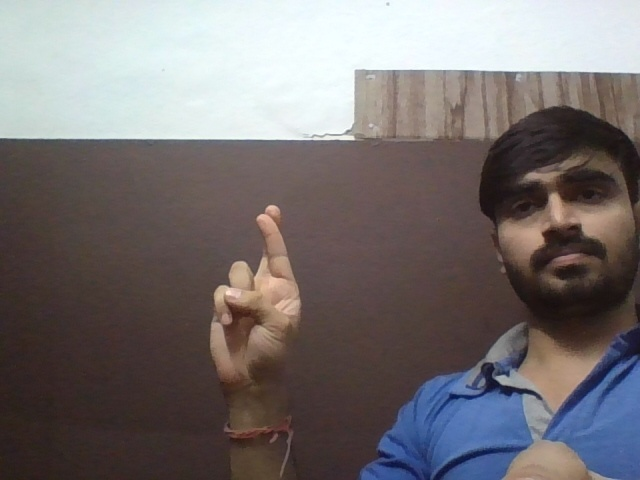R: (196, 196, 311, 411)
